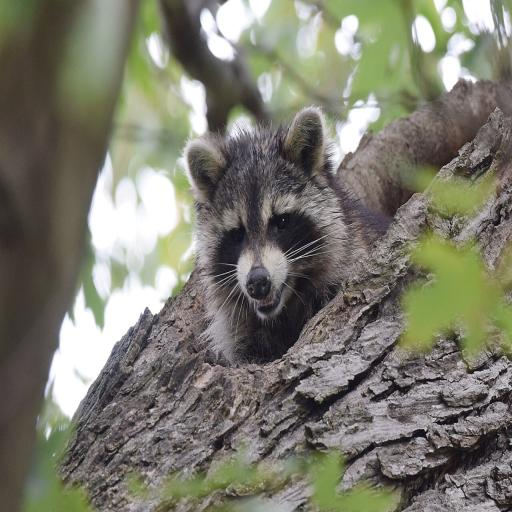raccoon: (185, 108, 388, 362)
